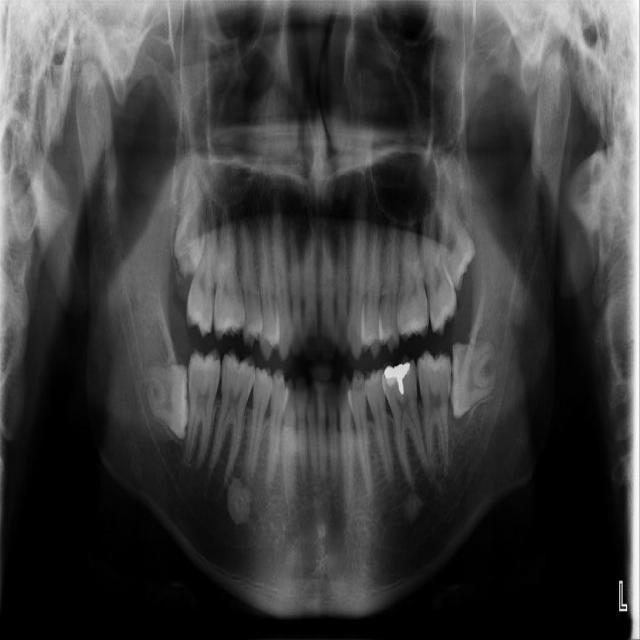3M ESPE Implant: (173, 176, 202, 276)
52: (374, 354, 428, 410)
73: (610, 600, 616, 612)
BioHorizons Implant: (415, 206, 462, 337)
BioLife Implant: (429, 193, 483, 292)
Biomet 3i Implant: (449, 341, 497, 420)
Blue Sky Bio Implant: (415, 348, 460, 469)
Caries: (184, 210, 221, 338)
Implant: (182, 347, 223, 475)
Keystone Dental Implant: (146, 363, 192, 440)
